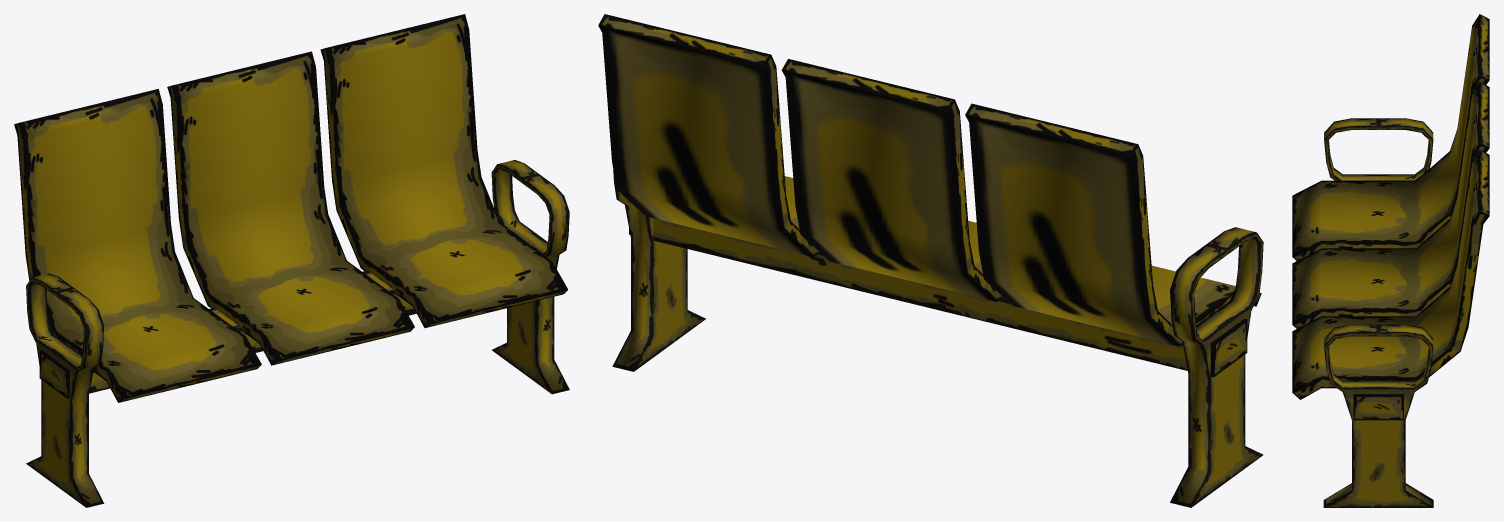
The model's file is Bench.fbx.
3 views of the same model, side by side, from view 1: azimuth 30°, elevation 25°; view 2: azimuth 150°, elevation 25°; view 3: azimuth 270°, elevation 25° (orthographic). The views are drawn at different scales.
Visible parts, largest first — view 1: Cube, Cube.003, Cube.001; view 2: Cube, Cube.003, Cube.001; view 3: Cube, Cube.003, Cube.001.
Part boxes in pixels (x1,y1,x2,y2): Cube: (14, 14, 567, 402); Cube.003: (26, 160, 569, 507); Cube.001: (39, 270, 416, 398); Cube: (598, 14, 1261, 346); Cube.003: (612, 170, 1263, 507); Cube.001: (629, 218, 1247, 377); Cube: (1292, 14, 1489, 399); Cube.003: (1323, 118, 1433, 507); Cube.001: (1353, 394, 1403, 420).
Size of the model in its own units: 323 by 201 by 124.
